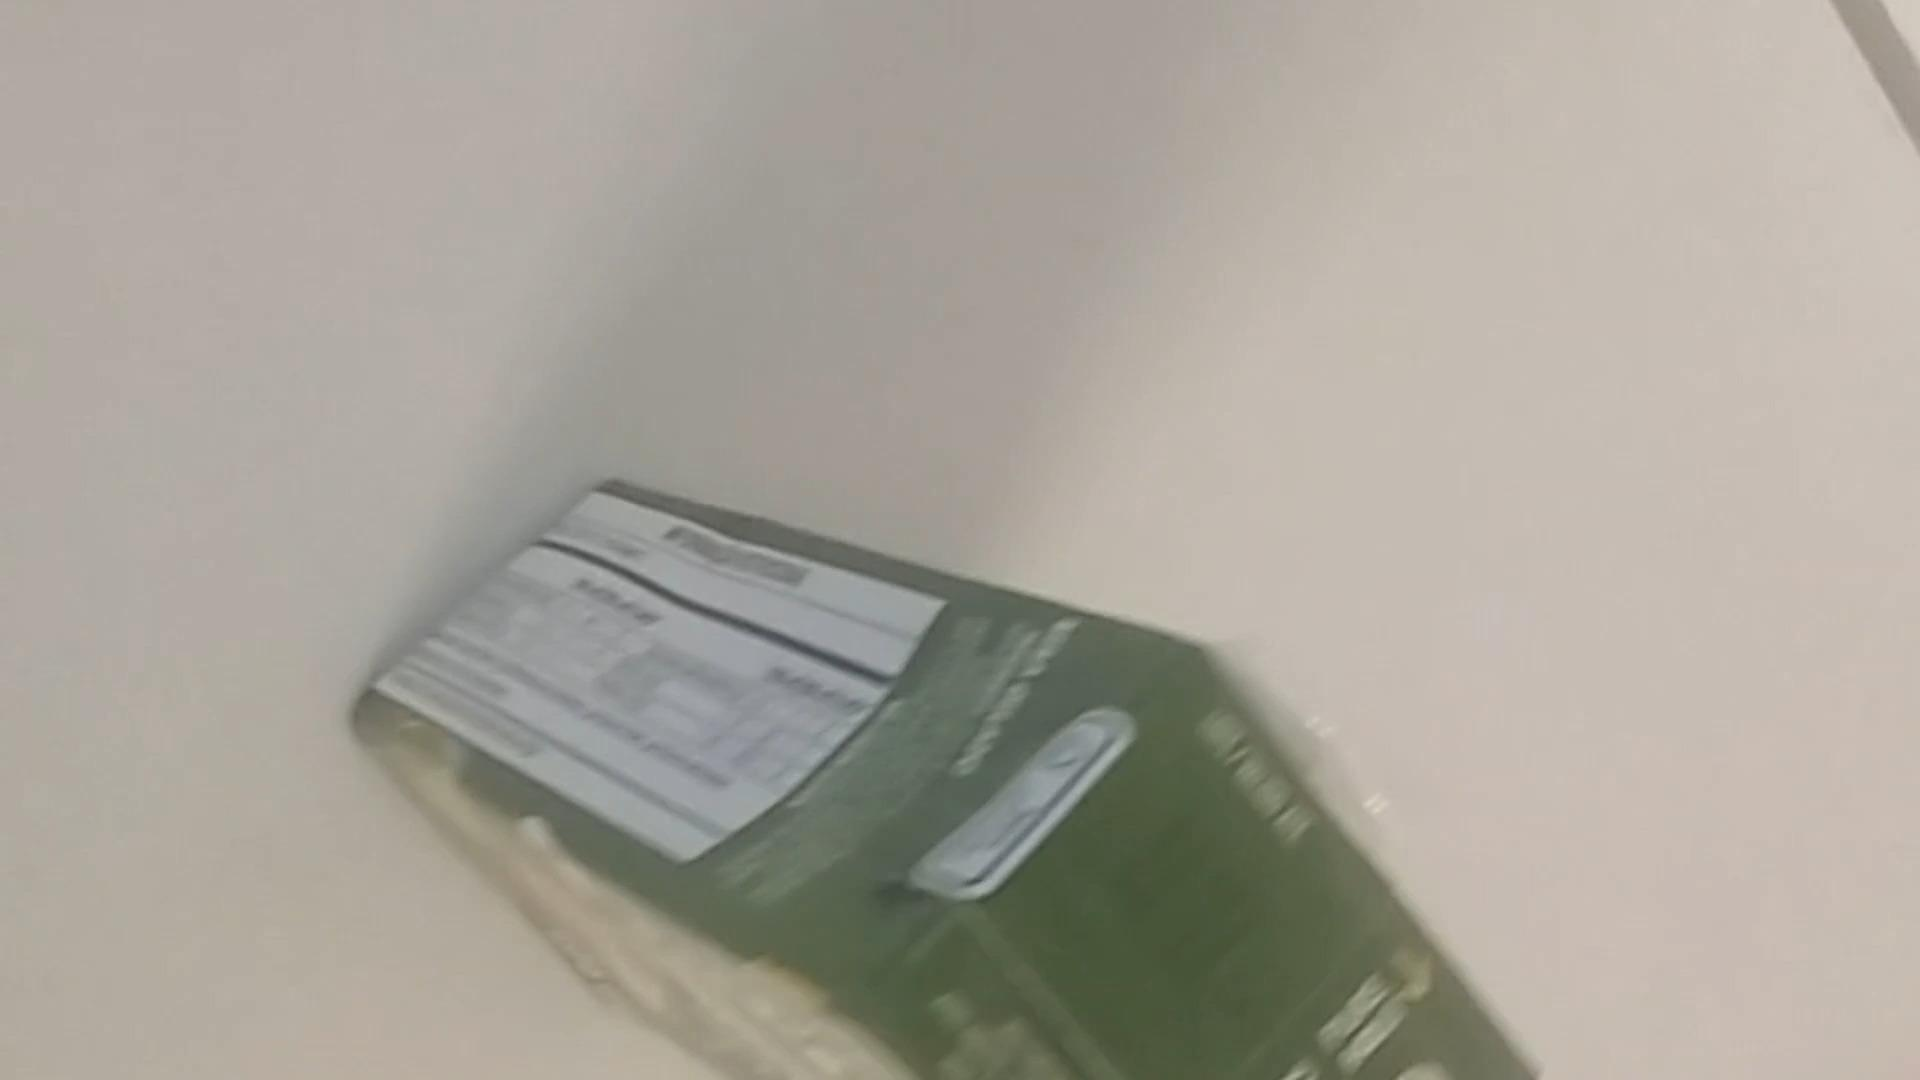coco: (360, 477, 1557, 1080)
